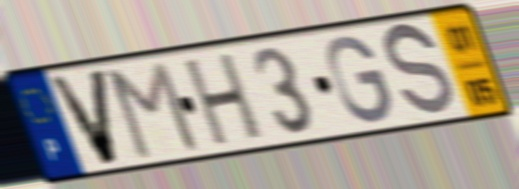3: (252, 43, 321, 139)
G: (323, 33, 395, 127)
H: (182, 48, 267, 151)
M: (104, 57, 204, 163)
S: (383, 19, 456, 123)
V: (44, 66, 121, 170)
